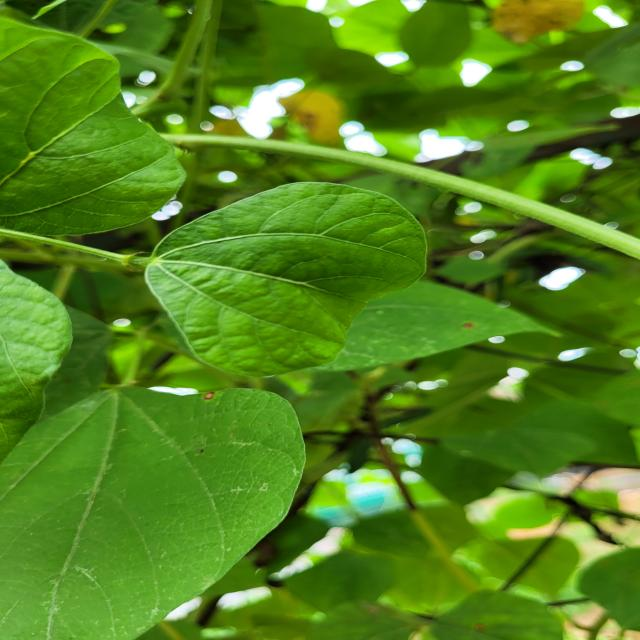Dolicos bean_healthy: (142, 181, 567, 374), (0, 383, 308, 640), (0, 14, 185, 244)
